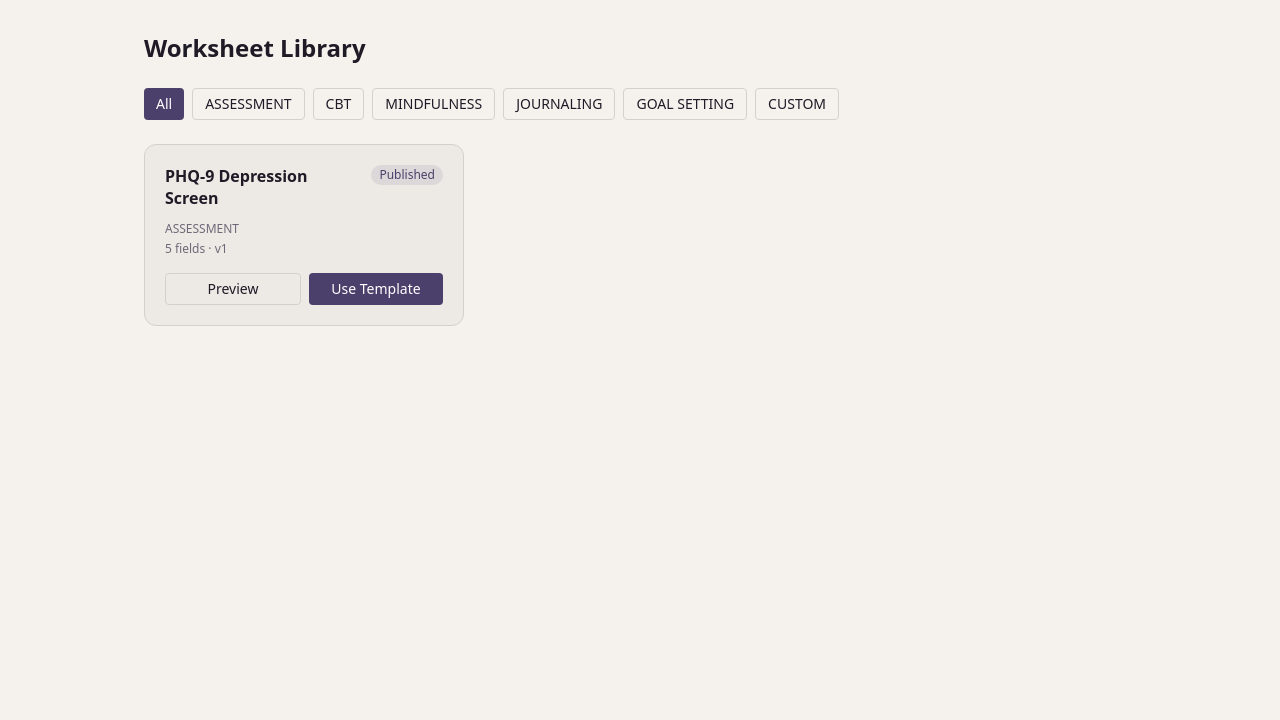
Scenario: Worksheet library page › preview renders label, textarea, rating, and text field types
This screenshot has width=1280, height=720.
Expected: the heading "PHQ-9 Depression Screen" is shown, [165,165,308,209]
Step 1. Click the button "Preview" → (233, 289), box [165,273,301,305]
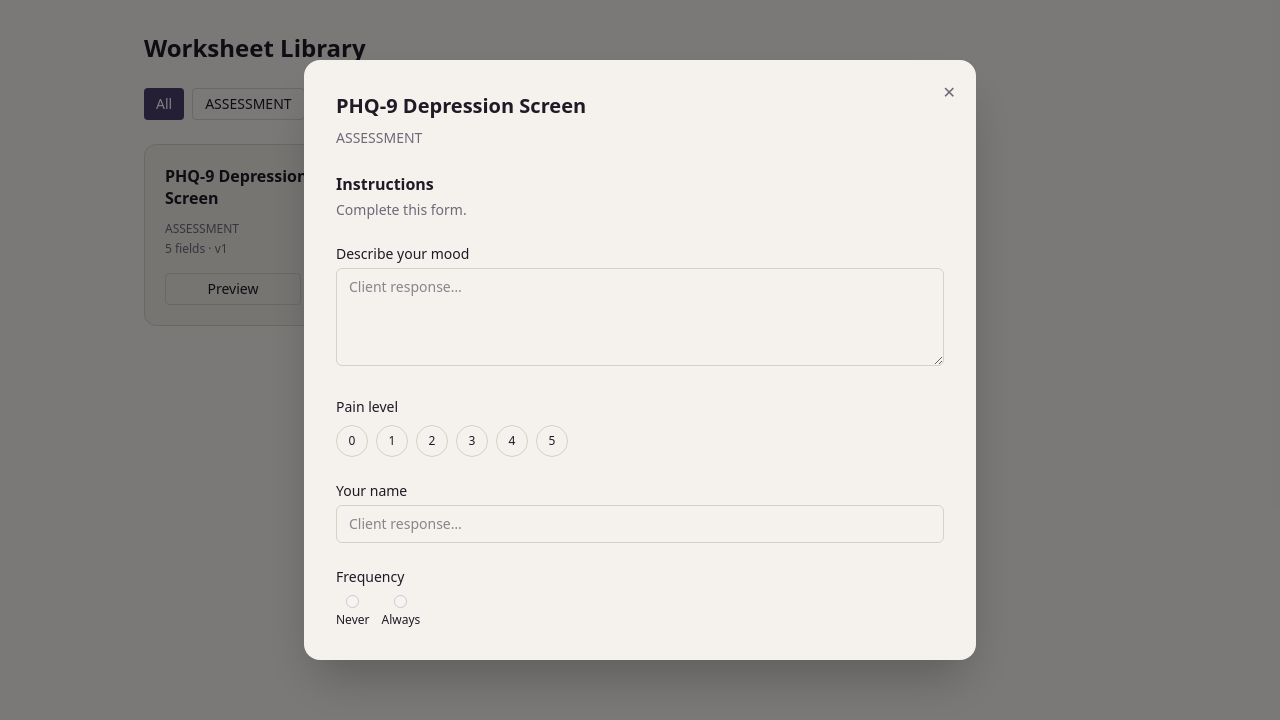
Result: the dialog shows "Instructions" at [336,173,434,195]
Result: the dialog shows "Complete this form." at [336,200,467,219]
Result: the dialog shows "Describe your mood" at [336,244,469,263]
